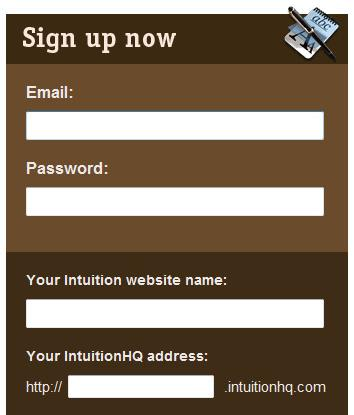field: (23, 108, 325, 141), (23, 184, 325, 217), (23, 296, 325, 329), (66, 373, 215, 399)
field_with_label: (20, 84, 326, 144), (20, 161, 327, 219), (21, 273, 328, 331), (63, 372, 326, 400), (25, 371, 216, 401)
